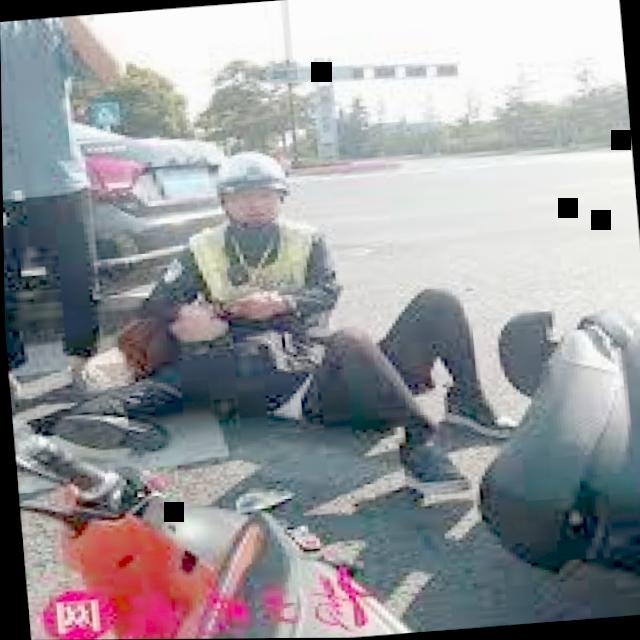Fall-Detected: (66, 252, 552, 498)
